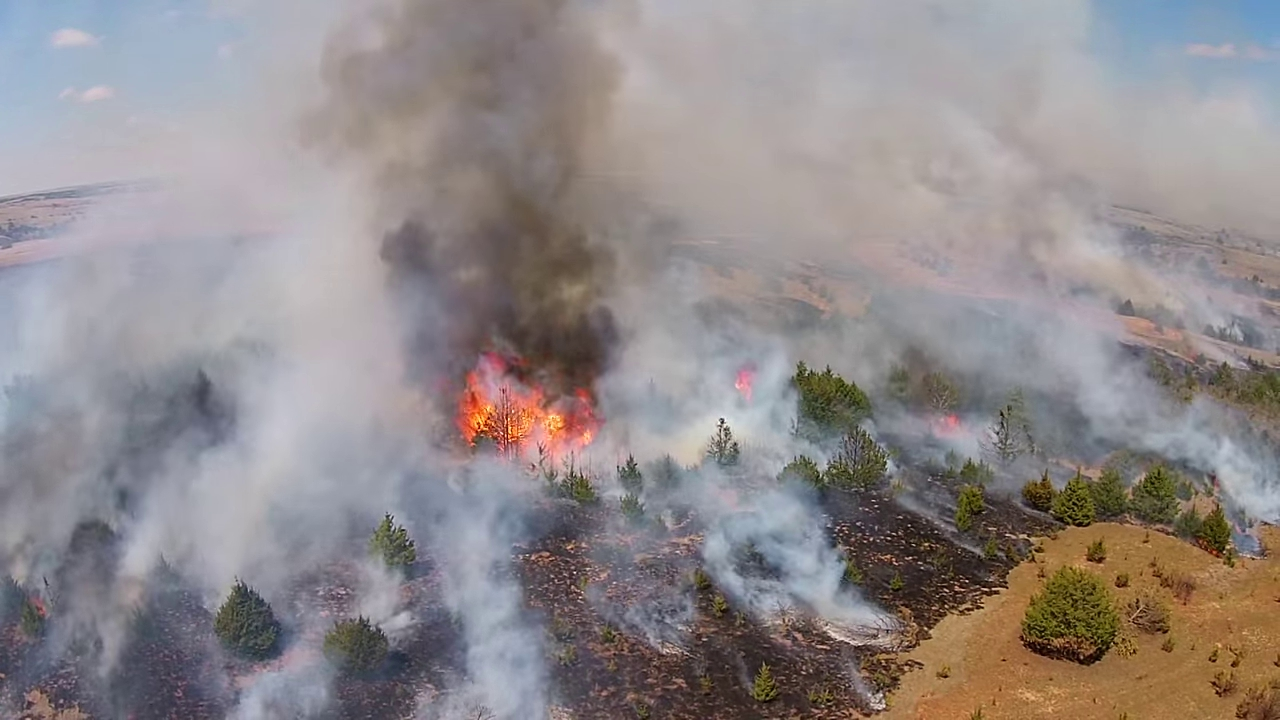forest_fire: (456, 352, 600, 456), (735, 364, 754, 400)
